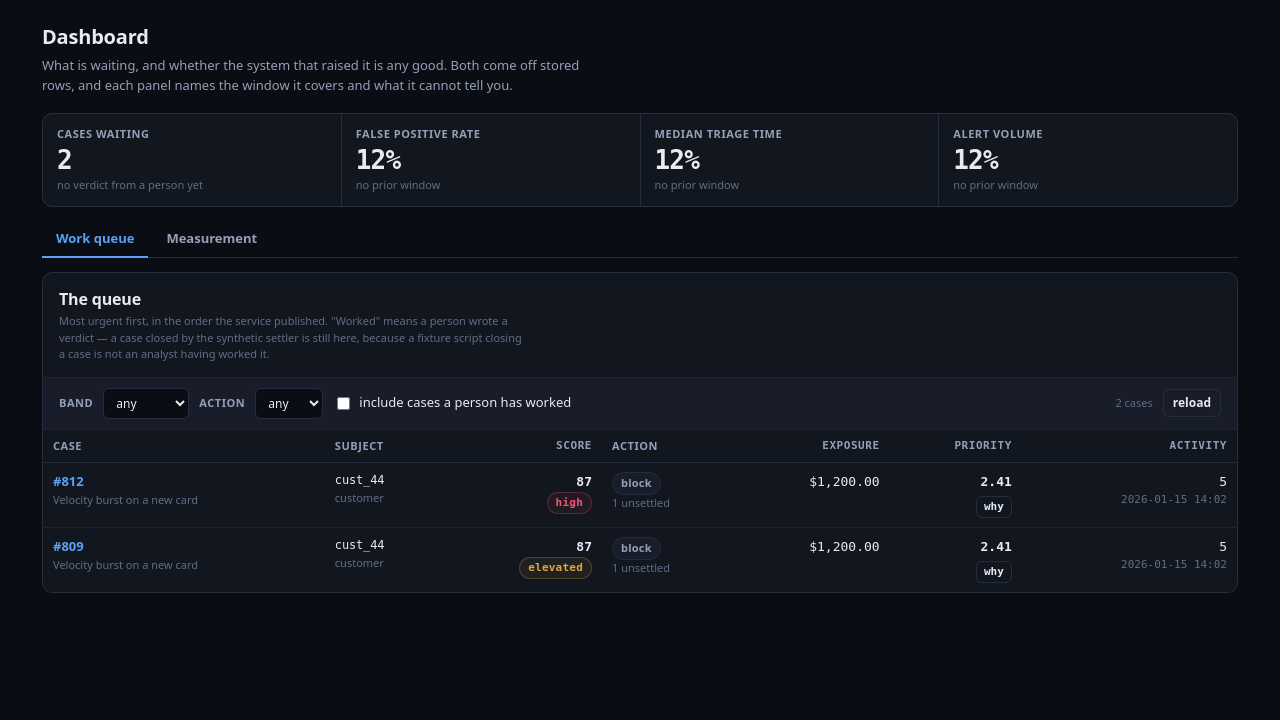
the queue narrows without reordering › says how far a filter narrowed it, and that it did not reorder
Expected: the text "#812" is shown, [53,472,84,490]
Select "elevated" in the dropdown labelled "Band" at (146, 403), box [103,388,189,419]
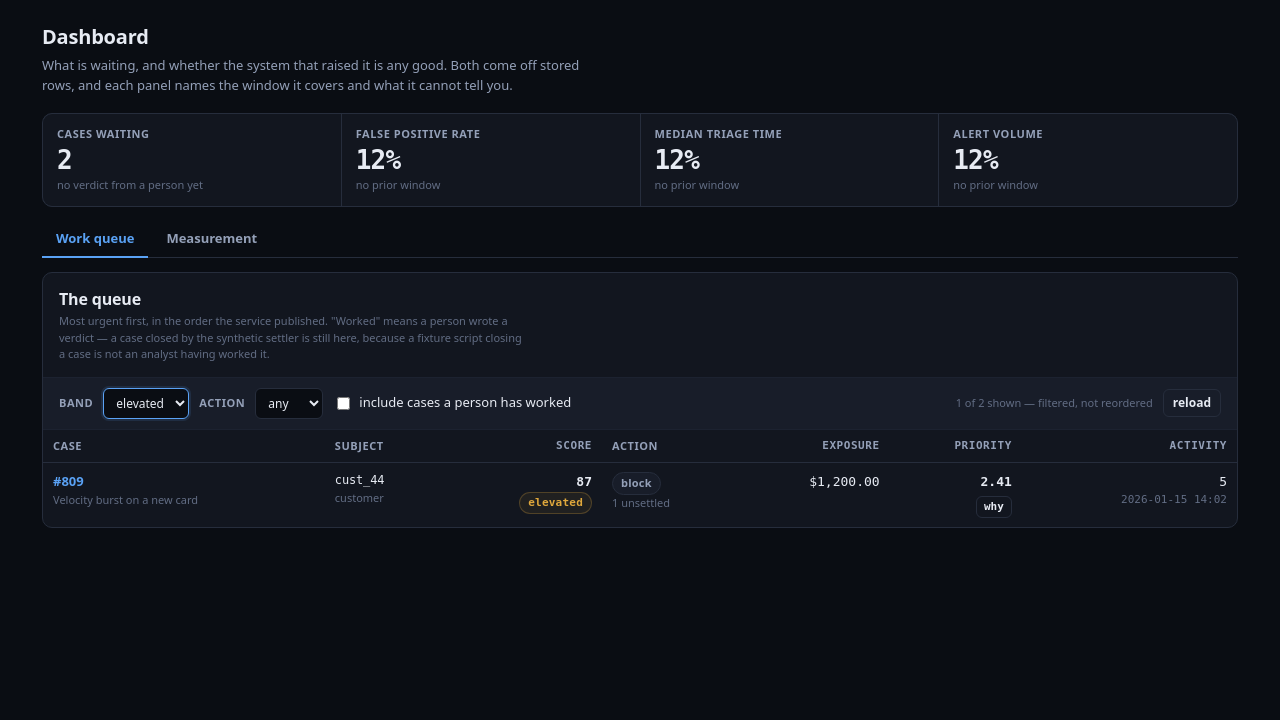
Result: the text "1 of 2 shown — filtered, not reordered" is shown at [956,395,1153,411]
Result: the link "#812" is gone
